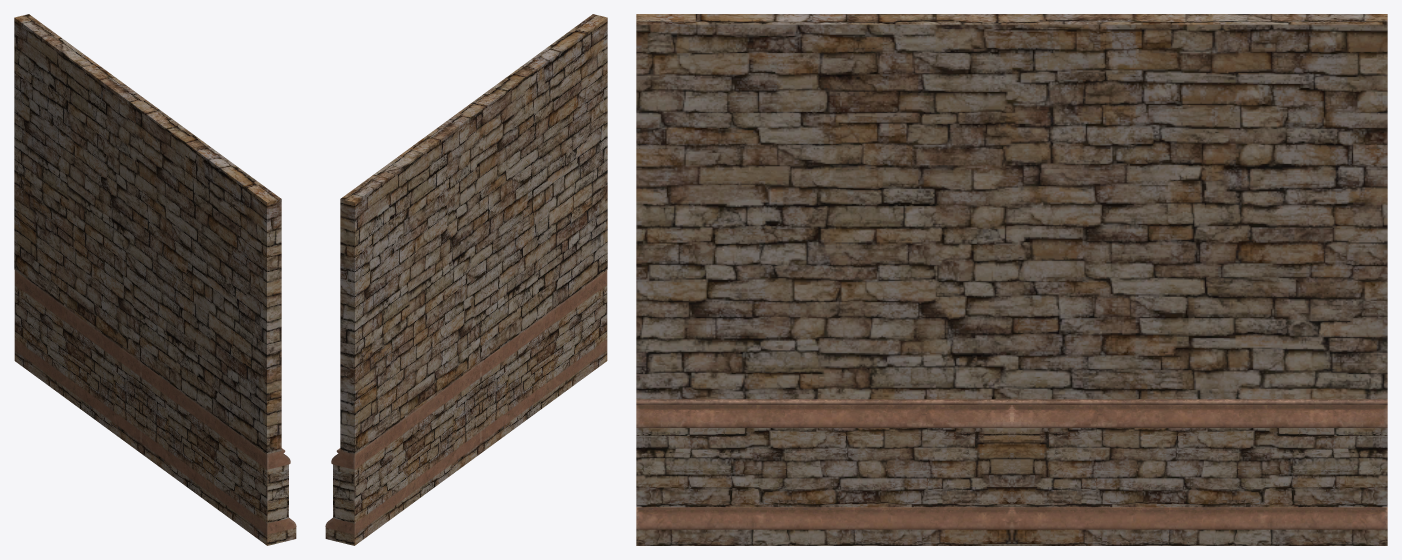
The model's file is SM_Wall_Combined_03.fbx.
The picture shows the model from 3 angles, left to right: view 1: azimuth 30°, elevation 25°; view 2: azimuth 150°, elevation 25°; view 3: azimuth 270°, elevation 25°; orthographic projection. The views are drawn at different scales.
Visible parts, largest first — view 1: SM_Wall_Combined_03; view 2: SM_Wall_Combined_03; view 3: SM_Wall_Combined_03.
Boxes of the visible parts, bbox=[...] form: SM_Wall_Combined_03: bbox=[14, 14, 296, 545]; SM_Wall_Combined_03: bbox=[325, 14, 607, 545]; SM_Wall_Combined_03: bbox=[636, 14, 1387, 545].
Bounding box in the file's own units: 40.42 × 450 × 600.
